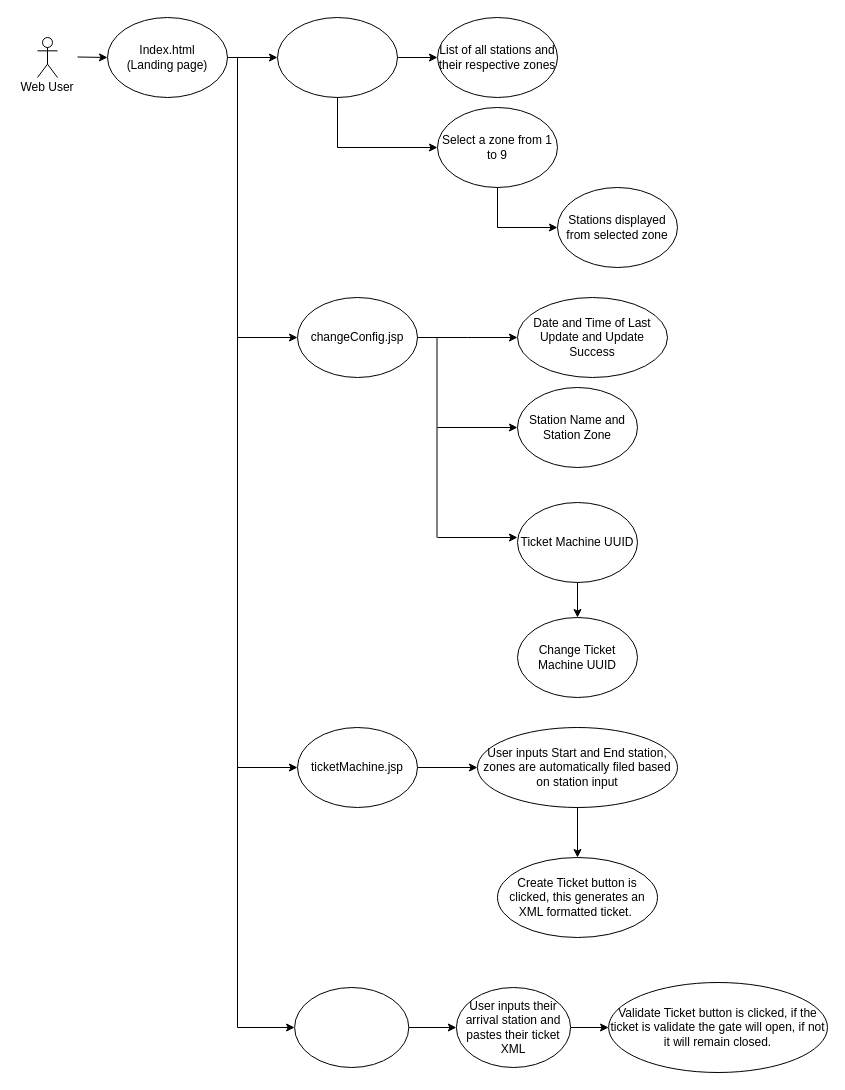
Some shapes in this 845 by 1090 pixel diagram are drawn without their labels. The box of each missing label's shape, as (x1, y1, x2, y2) in pixels:
clientStationList.jsp: (276, 16, 398, 98)
gate.jsp: (294, 986, 409, 1068)
